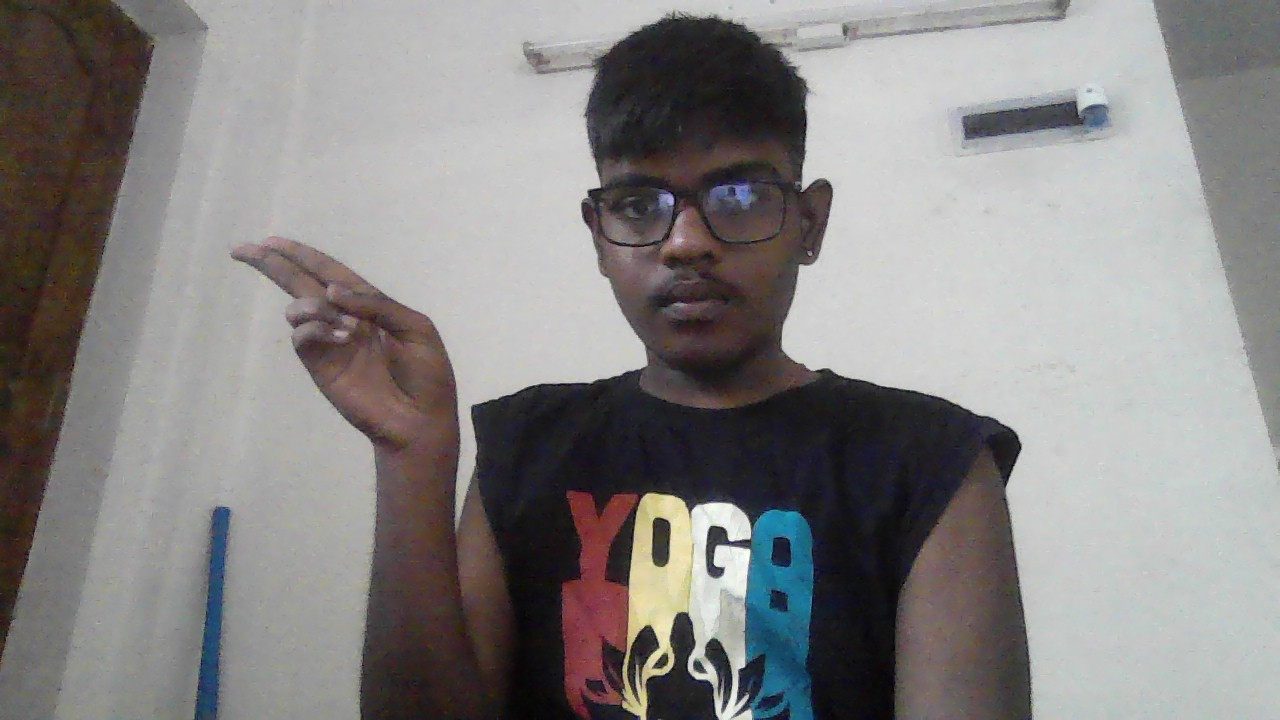H: (232, 236, 459, 455)
